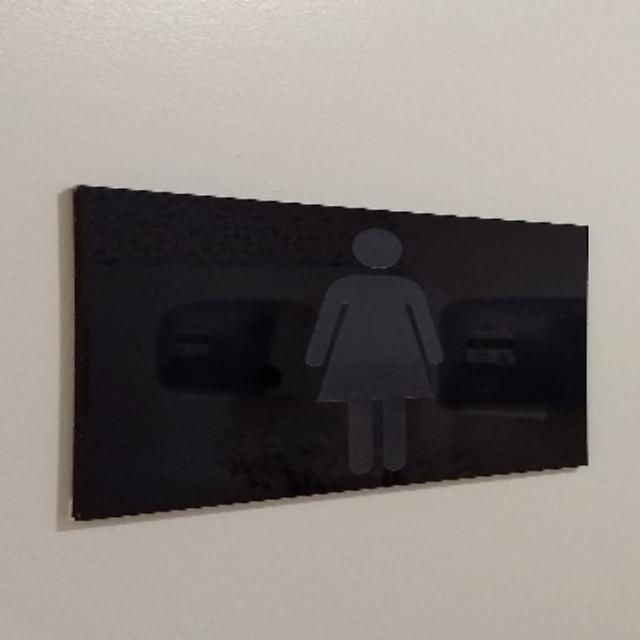womens_restroom: (75, 188, 585, 519)
